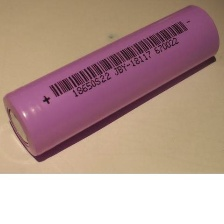battery: (0, 2, 222, 166)
